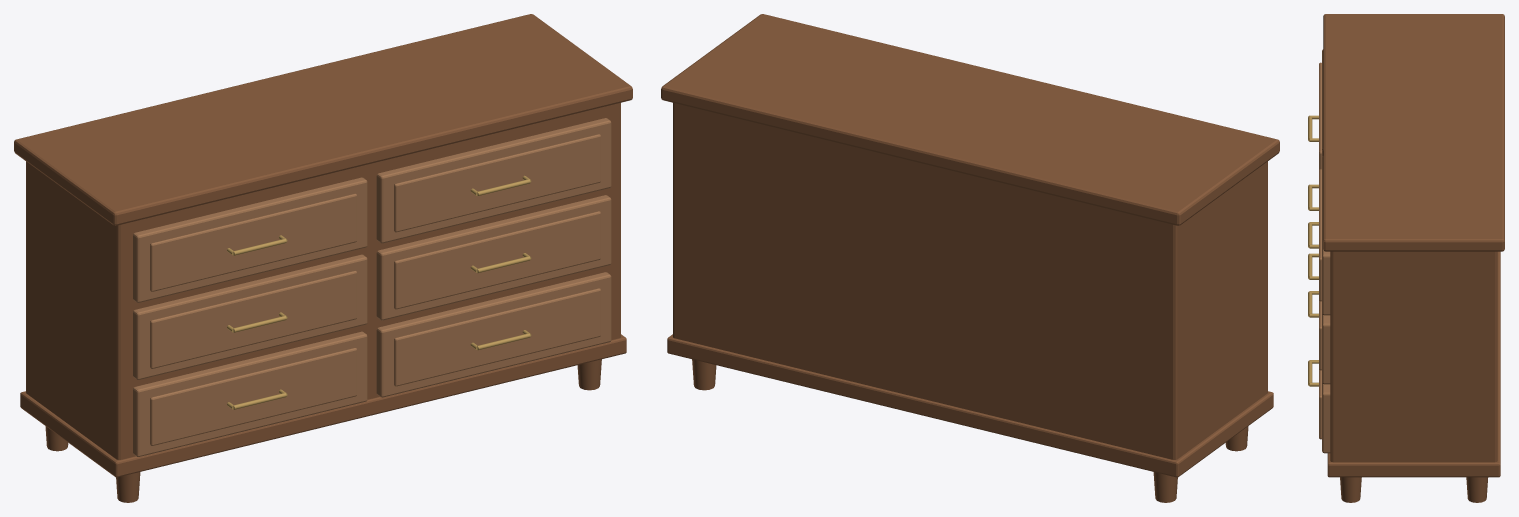
The model's file is dresser_walnut_double.glb.
The picture shows the model from 3 angles, left to right: view 1: azimuth 30°, elevation 25°; view 2: azimuth 150°, elevation 25°; view 3: azimuth 270°, elevation 25°; orthographic projection. The views are drawn at different scales.
Parts seen in each view (by area): view 1: Wide walnut dresser overhanging top, Wide walnut dresser closed cabinet, Wide walnut dresser base molding, Walnut drawer 3-1 inset raised panel, Walnut drawer 1-1 inset raised panel, Walnut drawer 1-2 inset raised panel, Walnut drawer 3-2 inset raised panel, Walnut drawer 2-2 inset raised panel, Walnut drawer 2-1 inset raised panel, Walnut drawer 2-2 closed drawer face, Walnut drawer 1-2 closed drawer face, Walnut drawer 3-2 closed drawer face (+3 smaller); view 2: Wide walnut dresser closed cabinet, Wide walnut dresser overhanging top, Wide walnut dresser base molding; view 3: Wide walnut dresser overhanging top, Wide walnut dresser closed cabinet, Wide walnut dresser base molding, Walnut drawer 3-2 closed drawer face, Walnut drawer 1-2 closed drawer face, Walnut drawer 2-2 closed drawer face, Wide walnut dresser grounded turned foot.003, Wide walnut dresser grounded turned foot.002, Walnut drawer 3-2 inset raised panel, Walnut drawer 3-1 inset raised panel.
Part boxes in pixels (bbox=[...]): Wide walnut dresser overhanging top: bbox=[14, 14, 632, 225]; Wide walnut dresser closed cabinet: bbox=[26, 103, 620, 459]; Wide walnut dresser base molding: bbox=[20, 334, 626, 477]; Walnut drawer 3-1 inset raised panel: bbox=[150, 193, 356, 291]; Walnut drawer 1-1 inset raised panel: bbox=[150, 348, 356, 445]; Walnut drawer 1-2 inset raised panel: bbox=[394, 288, 600, 386]; Walnut drawer 3-2 inset raised panel: bbox=[394, 134, 600, 232]; Walnut drawer 2-2 inset raised panel: bbox=[394, 211, 600, 309]; Walnut drawer 2-1 inset raised panel: bbox=[150, 270, 356, 368]; Walnut drawer 2-2 closed drawer face: bbox=[376, 195, 611, 320]; Walnut drawer 1-2 closed drawer face: bbox=[376, 272, 611, 397]; Walnut drawer 3-2 closed drawer face: bbox=[376, 118, 611, 243]; Wide walnut dresser closed cabinet: bbox=[673, 103, 1267, 459]; Wide walnut dresser overhanging top: bbox=[661, 14, 1279, 225]; Wide walnut dresser base molding: bbox=[667, 334, 1273, 477]; Wide walnut dresser overhanging top: bbox=[1323, 14, 1504, 251]; Wide walnut dresser closed cabinet: bbox=[1330, 251, 1497, 462]; Wide walnut dresser base molding: bbox=[1327, 251, 1500, 477]; Walnut drawer 3-2 closed drawer face: bbox=[1322, 156, 1330, 315]; Walnut drawer 1-2 closed drawer face: bbox=[1322, 382, 1330, 453]; Walnut drawer 2-2 closed drawer face: bbox=[1322, 313, 1330, 384]; Wide walnut dresser grounded turned foot.003: bbox=[1466, 477, 1488, 502]; Wide walnut dresser grounded turned foot.002: bbox=[1340, 477, 1361, 502]; Walnut drawer 3-2 inset raised panel: bbox=[1319, 169, 1321, 301]; Walnut drawer 3-1 inset raised panel: bbox=[1319, 62, 1321, 169].
Bounding box in the file's own units: 1.7 × 0.949 × 0.623.
